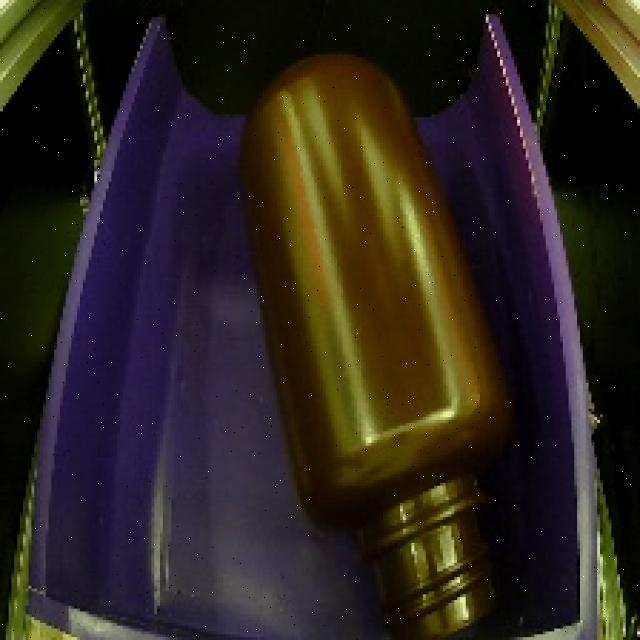plastic: (221, 36, 526, 636)
